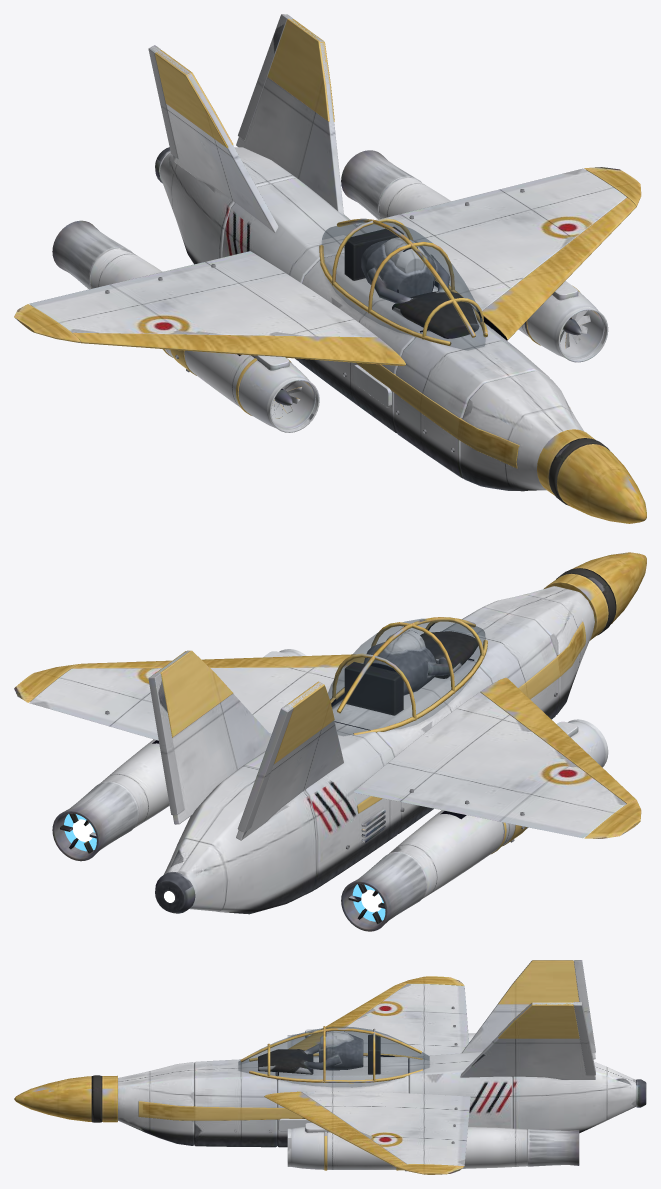
The model's file is valkyrie.glb.
3 renders of one model, top to bottom at view 1: azimuth 30°, elevation 25°; view 2: azimuth 150°, elevation 25°; view 3: azimuth 270°, elevation 25°, orthographic. The views are drawn at different scales.
Visible parts, largest first — view 1: valkyrie_body, canopy; view 2: valkyrie_body, canopy, valkyrie_emissive; view 3: valkyrie_body, canopy.
Part boxes in pixels (x1=…): valkyrie_body: x1=14, y1=14, x2=646, y2=523; canopy: x1=322, y1=221, x2=485, y2=350; valkyrie_body: x1=14, y1=552, x2=646, y2=931; canopy: x1=328, y1=618, x2=485, y2=735; valkyrie_emissive: x1=64, y1=814, x2=385, y2=921; valkyrie_body: x1=14, y1=960, x2=646, y2=1174; canopy: x1=238, y1=1026, x2=429, y2=1087.
Size of the model in its own units: 3.36 by 1.22 by 4.57.
6 materials, 2 textured.
